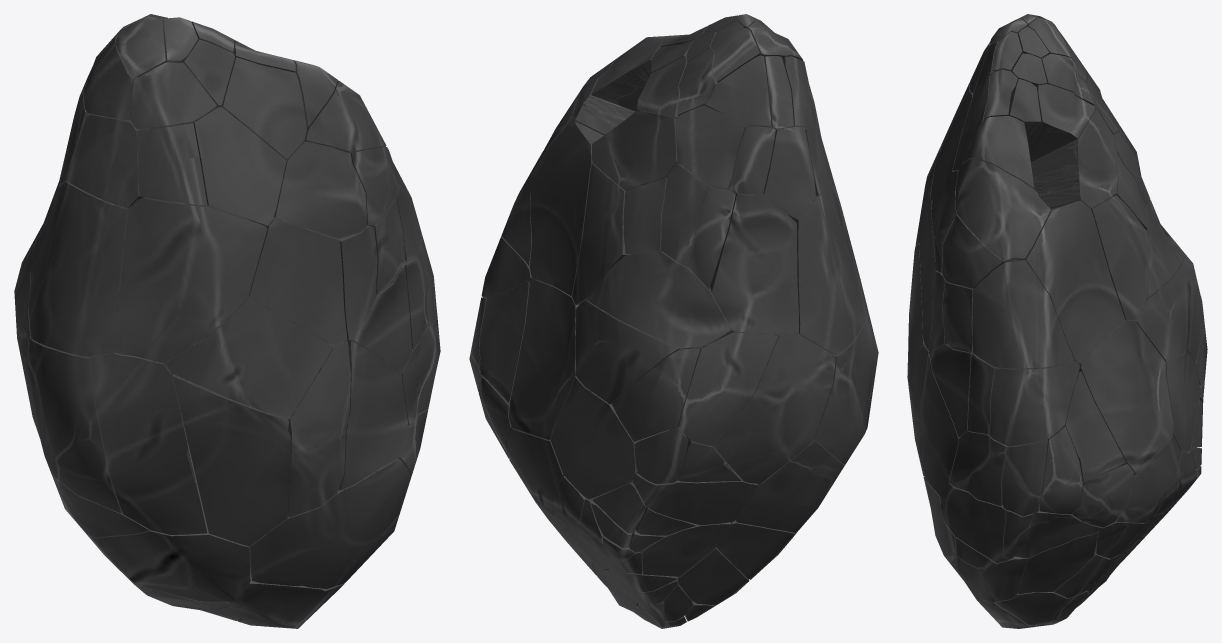
File: my_stone.glb
3 views of the same model, side by side, from view 1: azimuth 30°, elevation 25°; view 2: azimuth 150°, elevation 25°; view 3: azimuth 270°, elevation 25° (orthographic). The views are drawn at different scales.
Visible parts, largest first — view 1: Object_2_cell.018, Object_2_cell.057, Object_2_cell.011, Object_2_cell.068, Object_2_cell.004, Object_2_cell.077, Object_2_cell.099, Object_2_cell.078, Object_2_cell.046, Object_2_cell.065, Object_2_cell.029, Object_2_cell.056 (+27 smaller); view 2: Object_2_cell.082, Object_2_cell.022, Object_2_cell.068, Object_2_cell.093, Object_2_cell.059, Object_2_cell.016, Object_2_cell.058, Object_2_cell.009, Object_2_cell.023, Object_2_cell.099, Object_2_cell.054, Object_2_cell.072 (+40 smaller); view 3: Object_2_cell.059, Object_2_cell.016, Object_2_cell.050, Object_2_cell.026, Object_2_cell.075, Object_2_cell.072, Object_2_cell.010, Object_2_cell.023, Object_2_cell.063, Object_2_cell.045, Object_2_cell.076, Object_2_cell.056 (+43 smaller).
Part boxes in pixels (<box>): Object_2_cell.018: <box>114,197,267,362</box>; Object_2_cell.057: <box>90,350,207,534</box>; Object_2_cell.011: <box>172,373,290,546</box>; Object_2_cell.068: <box>28,181,129,356</box>; Object_2_cell.004: <box>249,458,410,588</box>; Object_2_cell.077: <box>164,297,332,418</box>; Object_2_cell.099: <box>25,339,121,513</box>; Object_2_cell.078: <box>247,217,347,344</box>; Object_2_cell.046: <box>94,441,250,602</box>; Object_2_cell.065: <box>287,340,350,517</box>; Object_2_cell.029: <box>181,107,286,225</box>; Object_2_cell.056: <box>339,340,408,490</box>; Object_2_cell.082: <box>713,331,835,483</box>; Object_2_cell.022: <box>710,190,798,334</box>; Object_2_cell.068: <box>785,177,868,355</box>; Object_2_cell.093: <box>586,251,733,347</box>; Object_2_cell.059: <box>529,121,603,296</box>; Object_2_cell.016: <box>509,279,578,439</box>; Object_2_cell.058: <box>550,376,669,499</box>; Object_2_cell.009: <box>679,331,778,446</box>; Object_2_cell.023: <box>575,300,712,404</box>; Object_2_cell.099: <box>814,313,878,465</box>; Object_2_cell.054: <box>735,440,844,532</box>; Object_2_cell.072: <box>592,110,679,190</box>; Object_2_cell.059: <box>1017,200,1125,363</box>; Object_2_cell.016: <box>1078,320,1173,475</box>; Object_2_cell.050: <box>972,260,1074,368</box>; Object_2_cell.026: <box>955,158,1050,260</box>; Object_2_cell.075: <box>989,360,1079,445</box>; Object_2_cell.072: <box>1031,108,1117,208</box>; Object_2_cell.010: <box>1090,195,1150,320</box>; Object_2_cell.023: <box>1126,255,1194,361</box>; Object_2_cell.063: <box>1063,371,1125,480</box>; Object_2_cell.045: <box>940,482,1009,563</box>; Object_2_cell.076: <box>949,431,1009,505</box>; Object_2_cell.056: <box>922,354,959,496</box>.
Size of the model in its own units: 0.6719 by 1.04 by 0.5019.
Materials: 1 (1 with a texture image).
